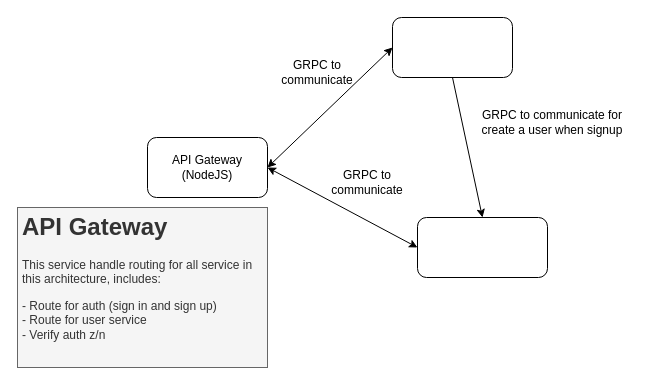
Image size: 645x385. Some labels were removed from this diagram. The centre of each missing label's shape, as x and y in pixels:
"Auth Service (NodeJS + Mongo)" goes at [452,47].
"User Service (Python + Mysql)" goes at [482,247].
